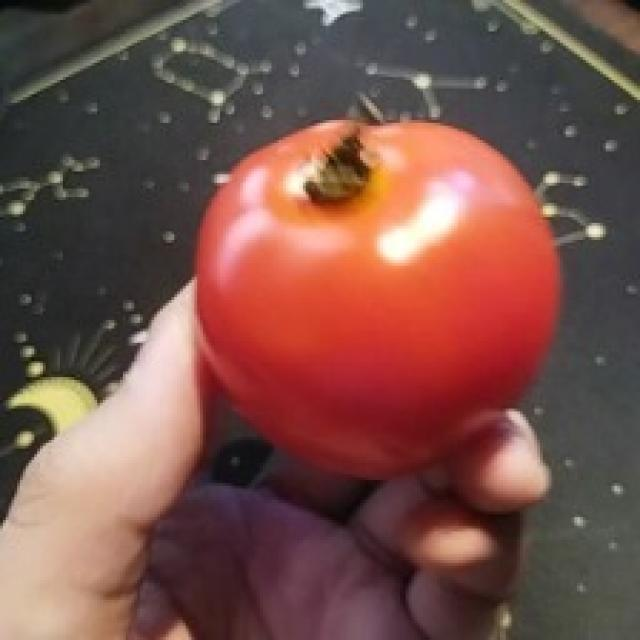Fresh Tomato: (182, 94, 568, 513)
